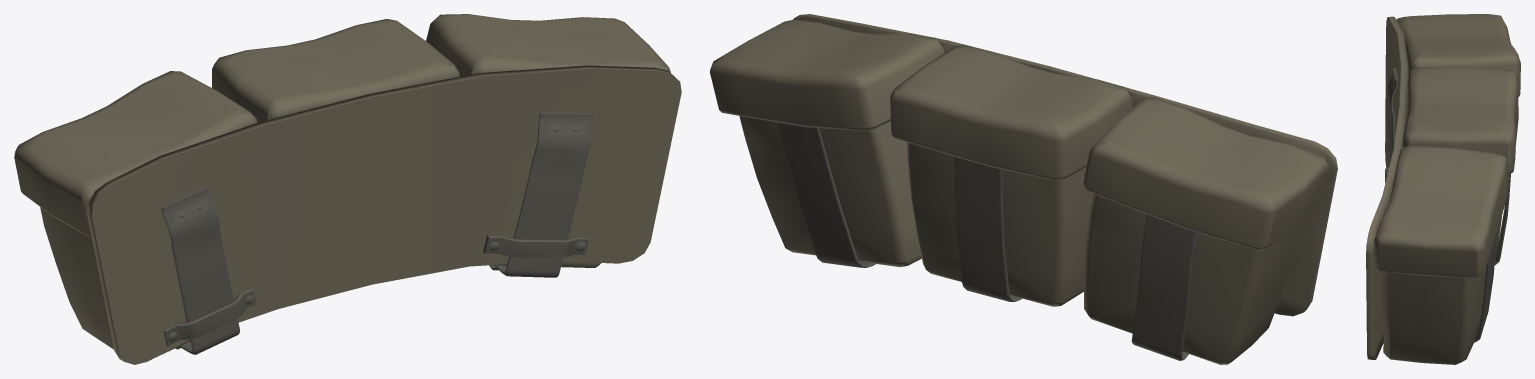
Rendered from ammoBag.fbx.
The picture shows the model from 3 angles, left to right: view 1: azimuth 30°, elevation 25°; view 2: azimuth 150°, elevation 25°; view 3: azimuth 270°, elevation 25°; orthographic projection. The views are drawn at different scales.
Parts seen in each view (by area): view 1: LP; view 2: LP; view 3: LP.
Boxes of the visible parts, x1,y1,x2,y2 form: LP: [14, 14, 681, 364]; LP: [710, 14, 1337, 364]; LP: [1366, 14, 1520, 364].
Size of the model in its own units: 75.33 by 28.16 by 21.73.
